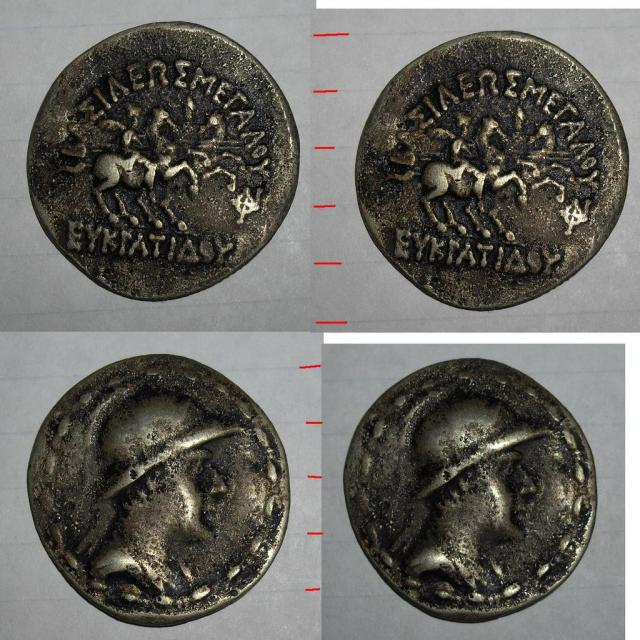Coin: (356, 31, 634, 312), (28, 18, 303, 301), (22, 348, 293, 629), (342, 357, 601, 623)
